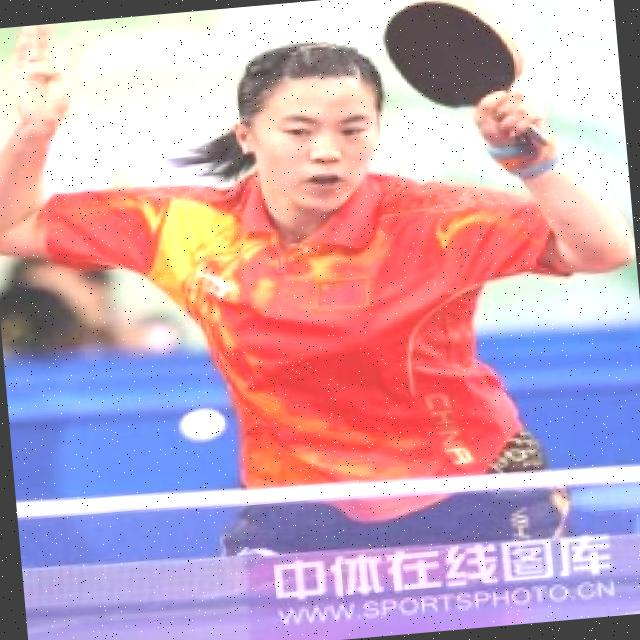ping-pong-ball: (176, 401, 225, 442)
